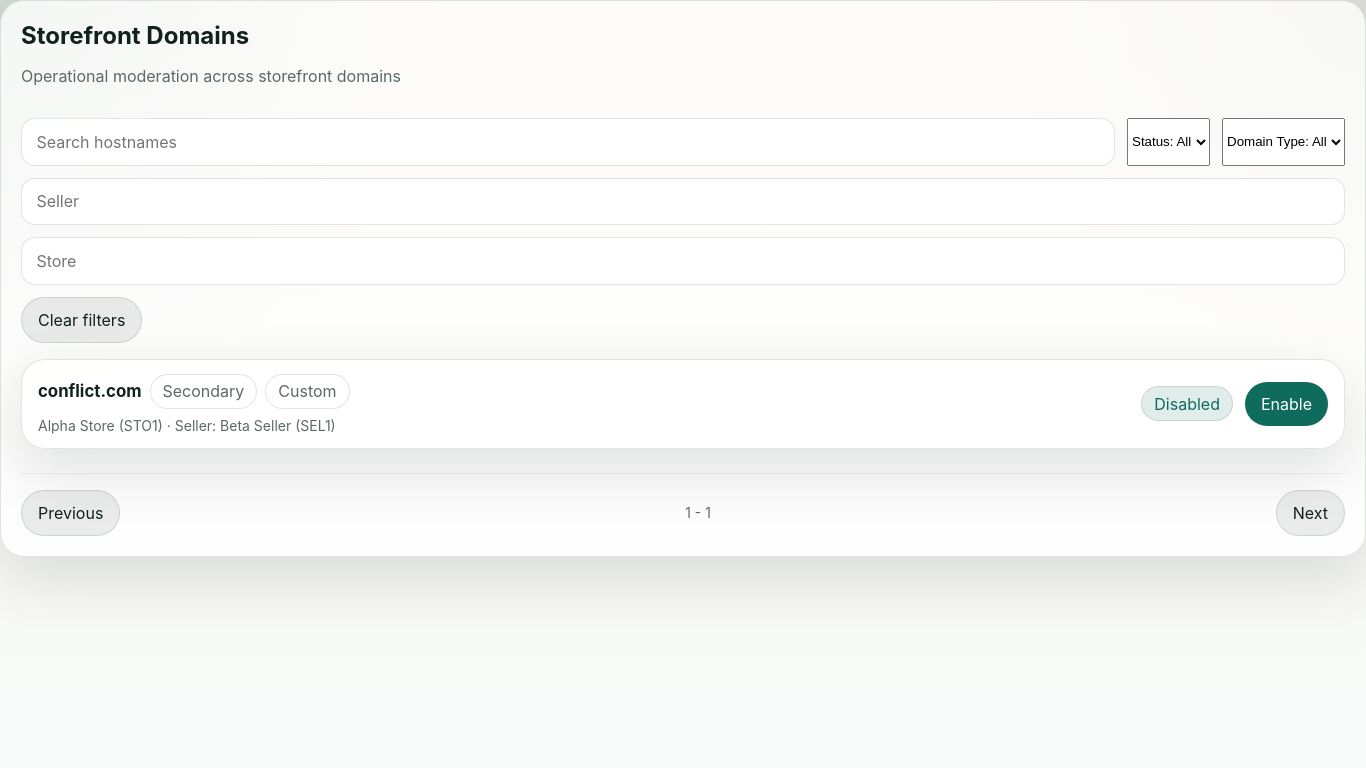
Test: DomainModerationPanel › handles 409 state-changed conflict with error notice and authoritative refresh
The width and height of the screenshot is (1366, 768).
Expected: the text "conflict.com" is shown, [38,381,142,401]
Click the button with test id "enable-btn-dom-conflict-1" at point(1286, 404), box [1245,382,1328,426]
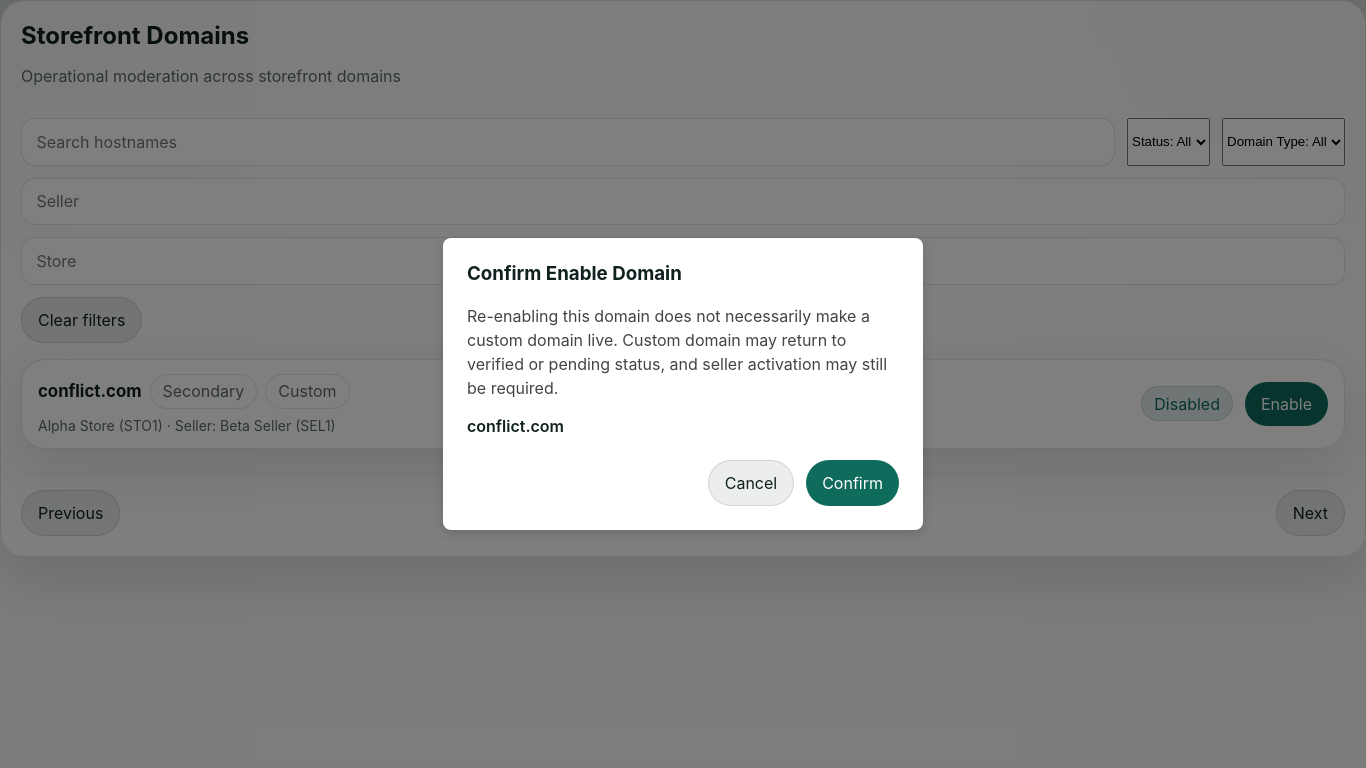
Click the button with test id "confirm-submit" at point(853, 483), box [806,460,899,506]
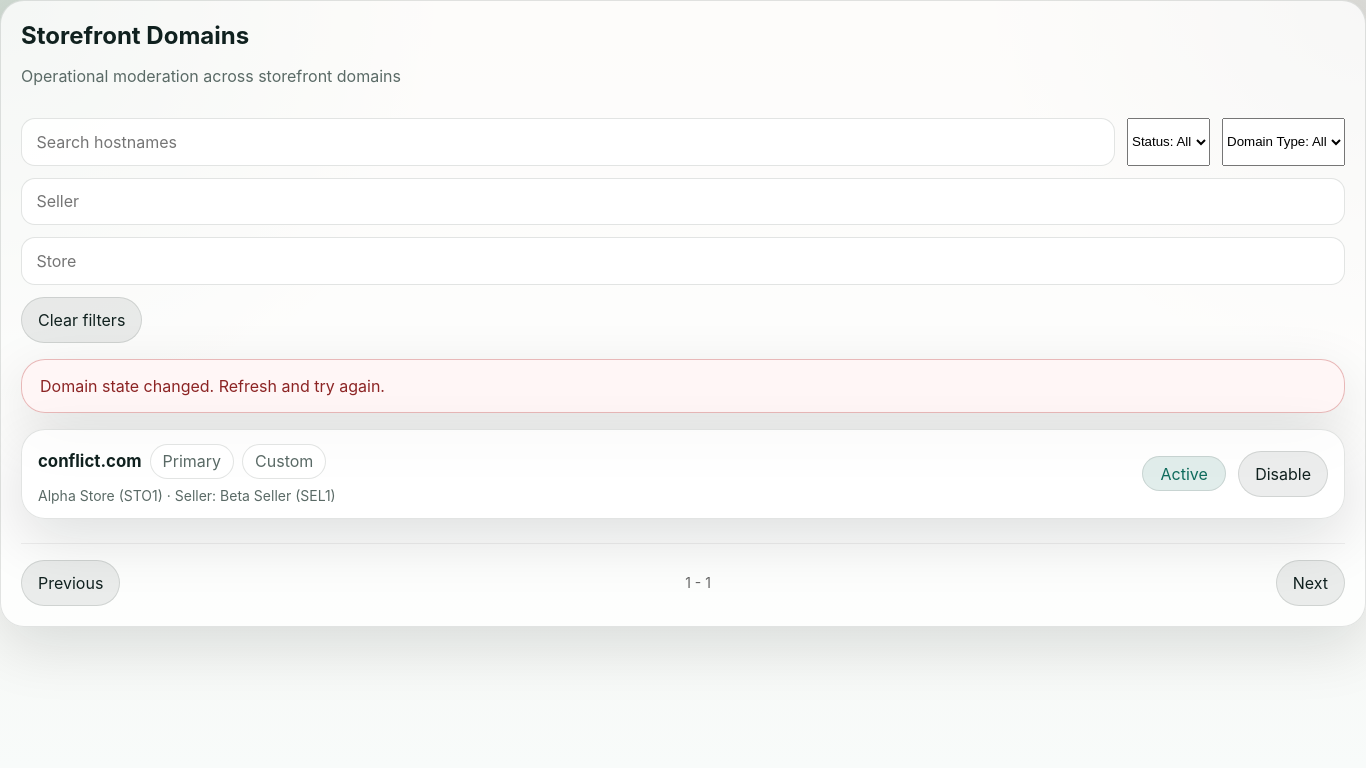
Expected: the text with test id "domain-error" reads "Domain state changed. Refresh and try again.", [40,376,385,396]
